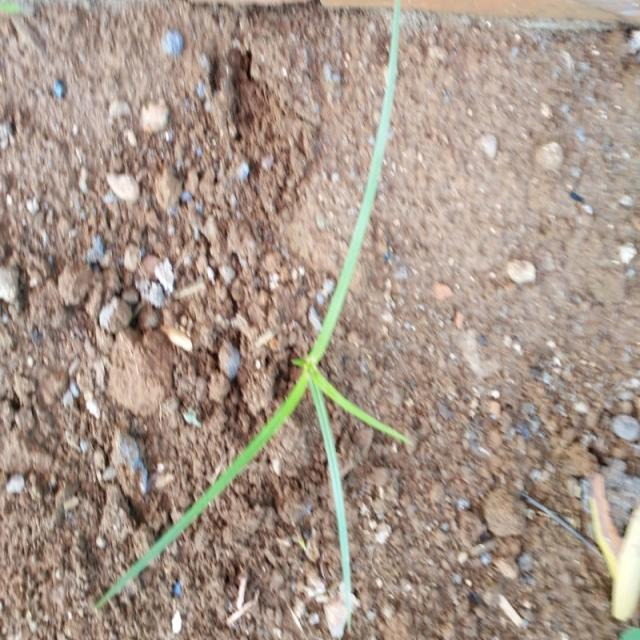sedge: (90, 116, 451, 601)
